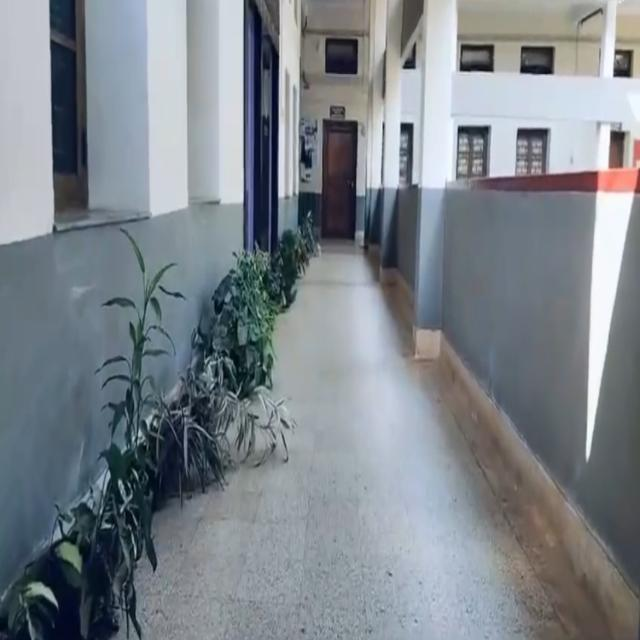pillar ahead at: (419, 0, 449, 361)
plant ahead at: (214, 258, 276, 449)
